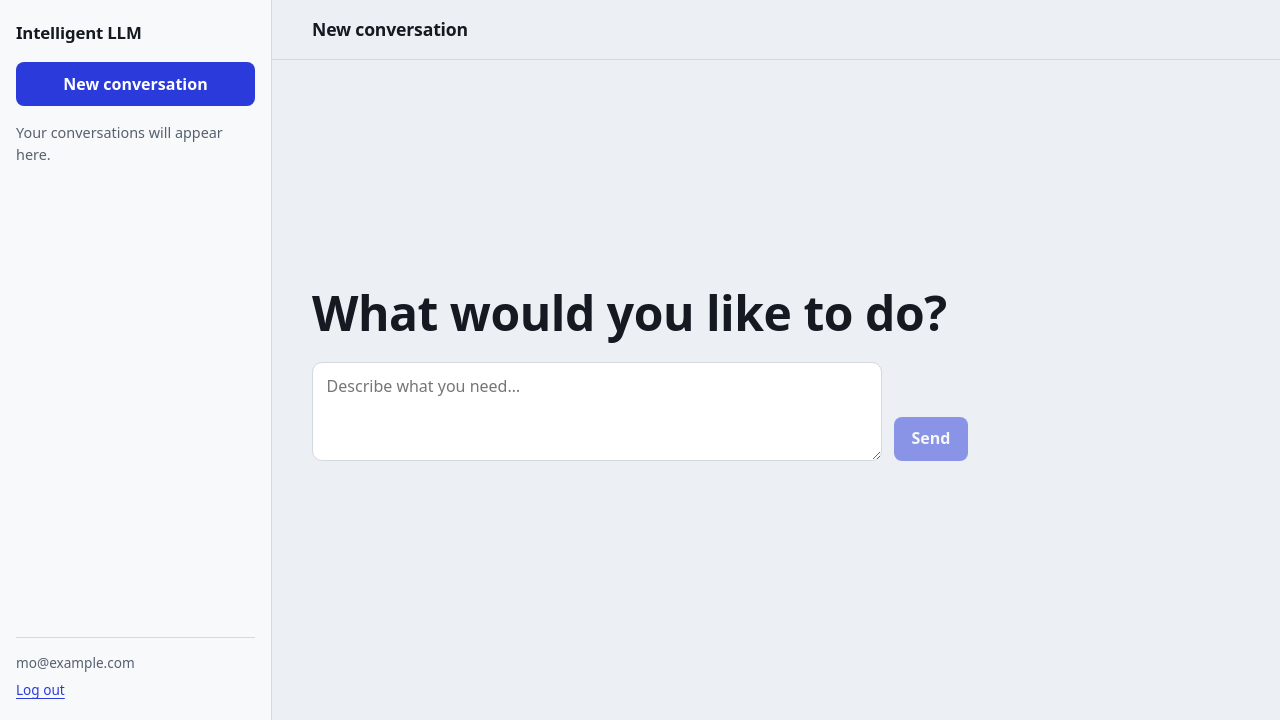
chat › keeps the text and shows an error when sending fails
Type "hello there" into the text box named "Your request" at (597, 411), box x1=312 y1=362 x2=882 y2=461
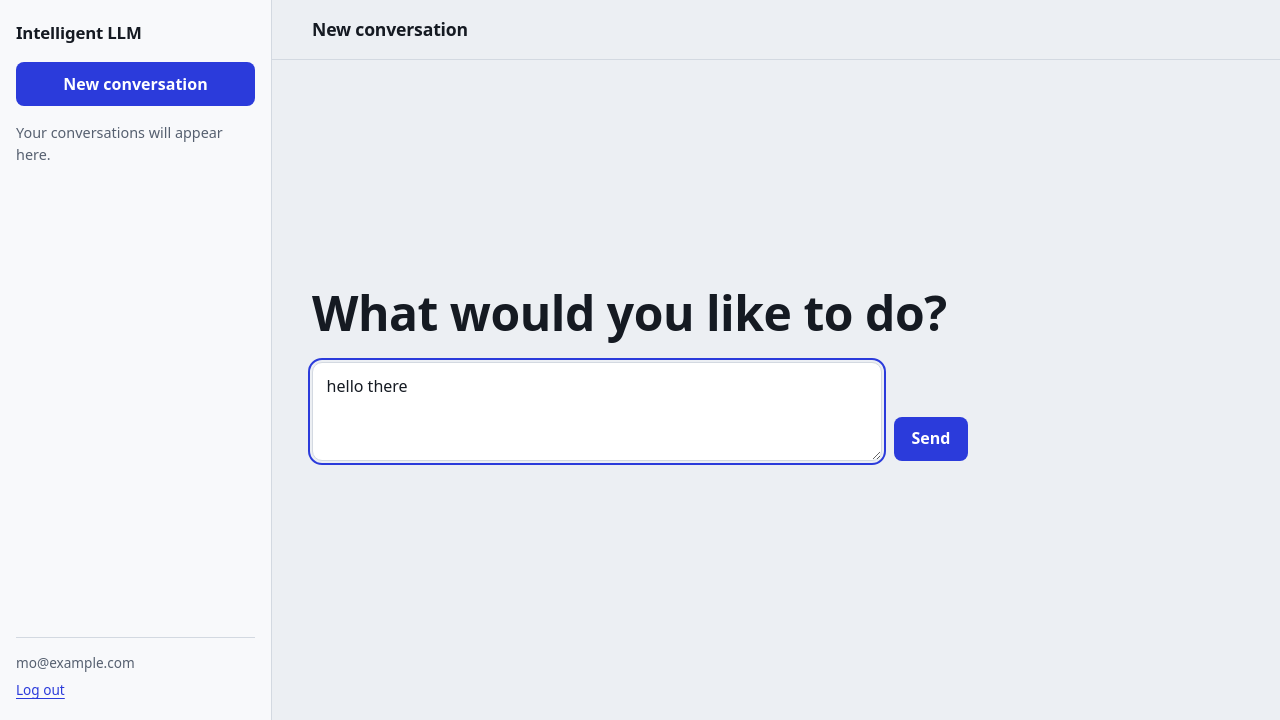
Click the button "Send" at (931, 439), box x1=894 y1=417 x2=968 y2=461
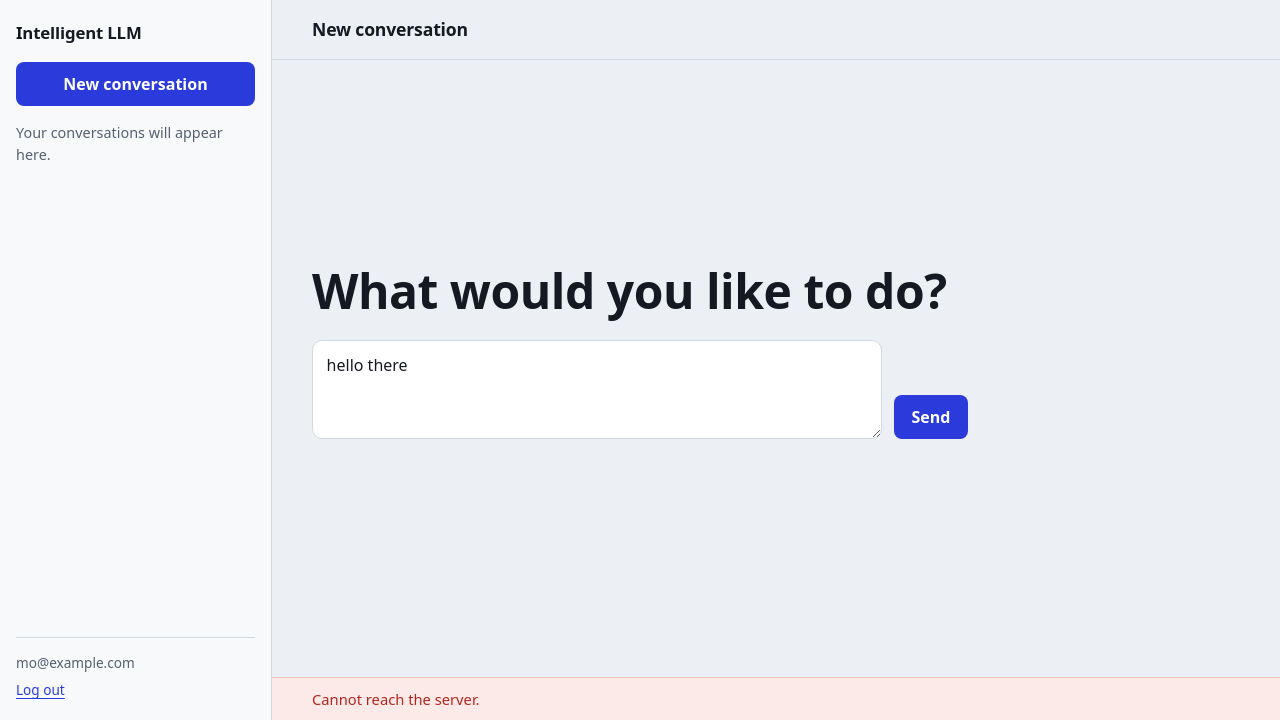
Expected: the message reads "Cannot reach the server.", x1=312 y1=689 x2=480 y2=709
